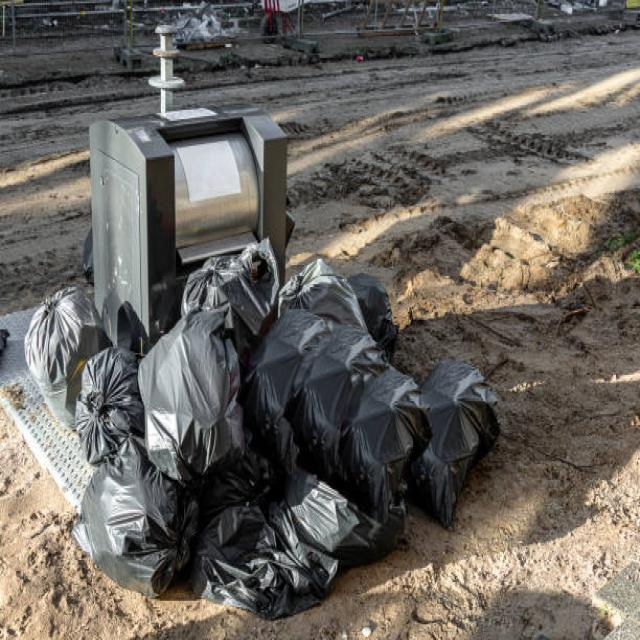trash: (30, 282, 488, 585)
